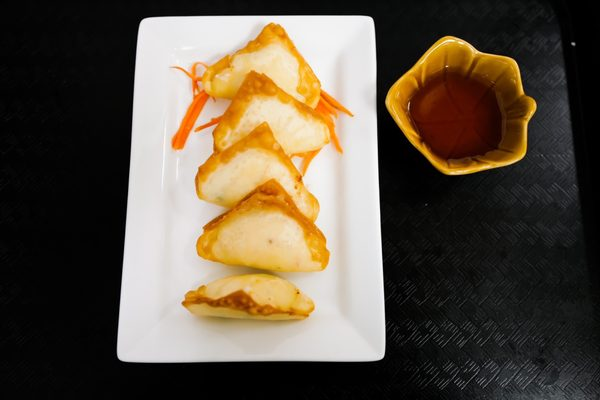soup: (181, 272, 316, 320)
steak: (195, 176, 331, 273)
sushi: (385, 34, 538, 176)
